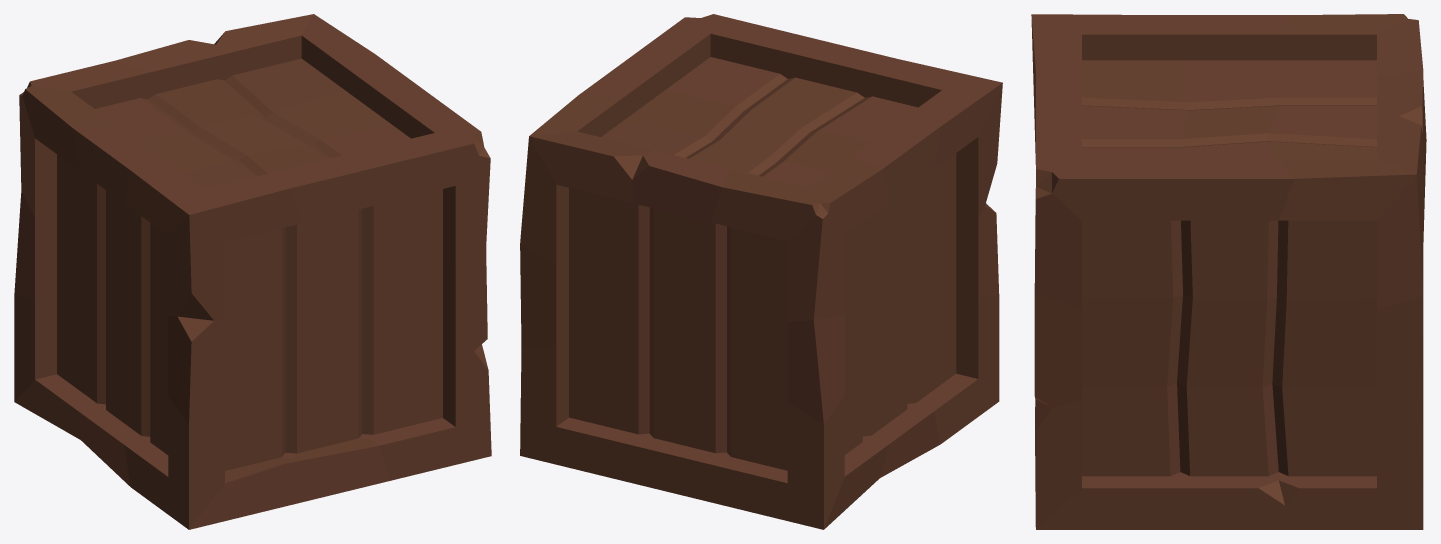
The picture shows the model from 3 angles, left to right: view 1: azimuth 30°, elevation 25°; view 2: azimuth 150°, elevation 25°; view 3: azimuth 270°, elevation 25°; orthographic projection. The views are drawn at different scales.
Visible parts, largest first — view 1: crate; view 2: crate; view 3: crate.
Boxes of the visible parts, bbox=[...] form: crate: bbox=[14, 14, 491, 529]; crate: bbox=[520, 14, 1002, 529]; crate: bbox=[1031, 14, 1426, 529].
Bounding box in the file's own units: 121 × 121 × 122.
